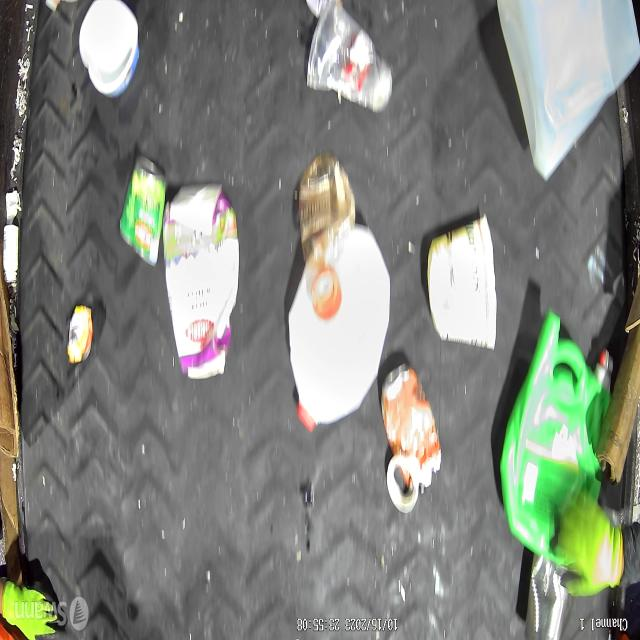can: (380, 365, 441, 493), (118, 155, 166, 265), (524, 552, 575, 640)
milk_jug: (496, 0, 640, 182), (288, 220, 390, 434)
non_white_jug: (502, 307, 611, 553), (162, 184, 240, 380)
